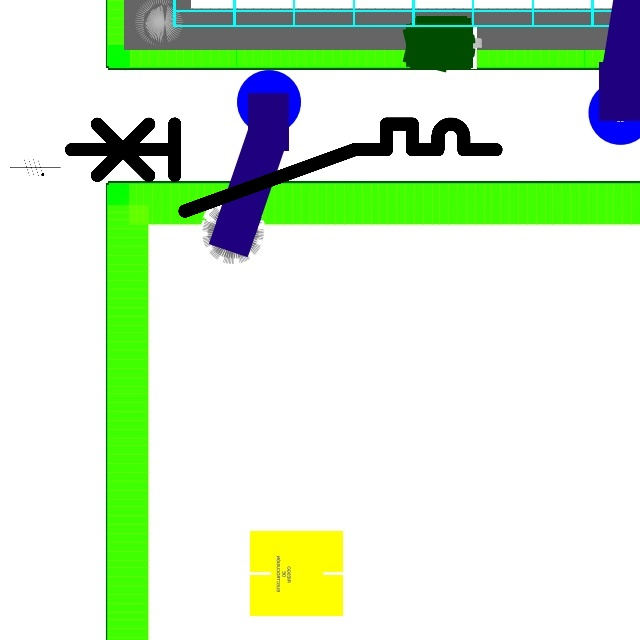interruptor_termomagnetico: (60, 113, 506, 222)
